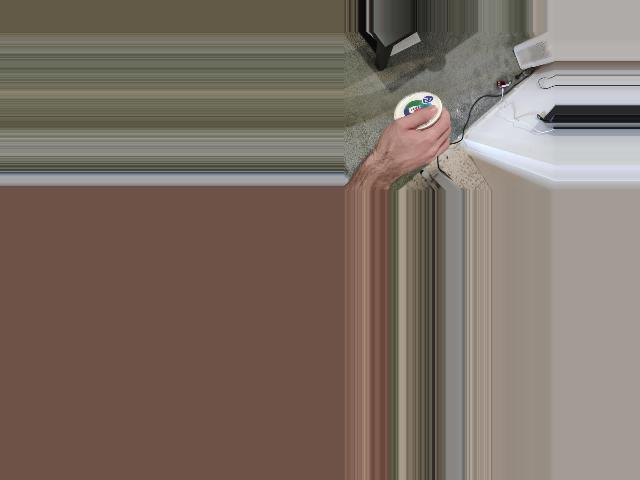cotage: (393, 91, 442, 134)
